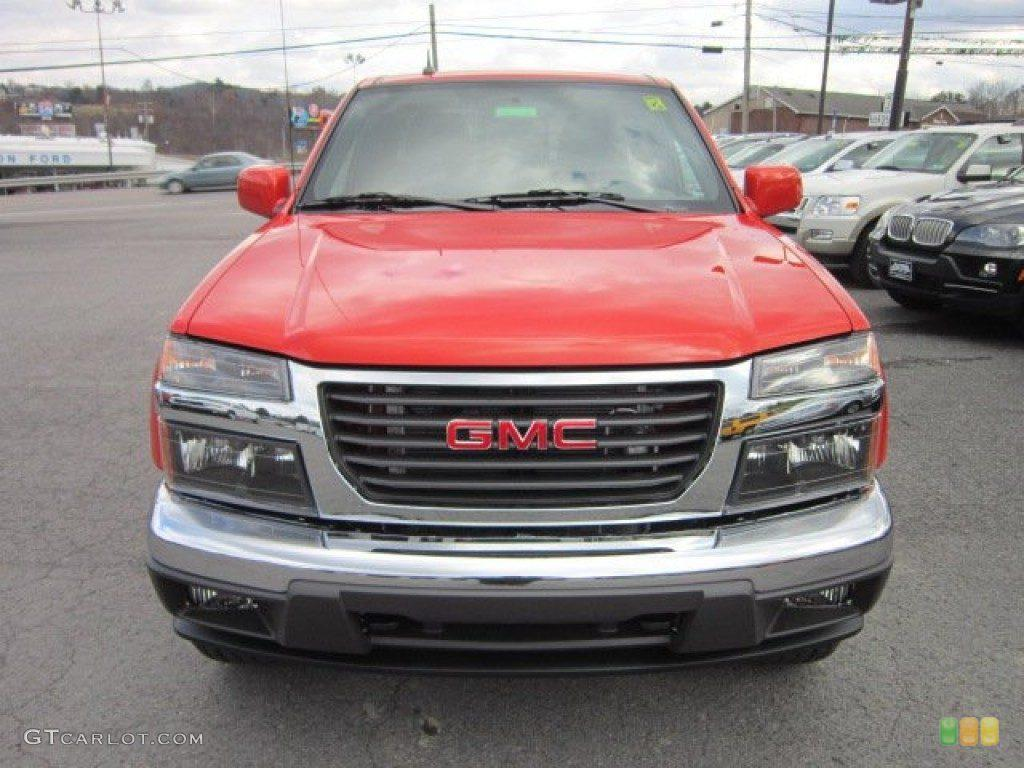GMC: (440, 412, 618, 472)
